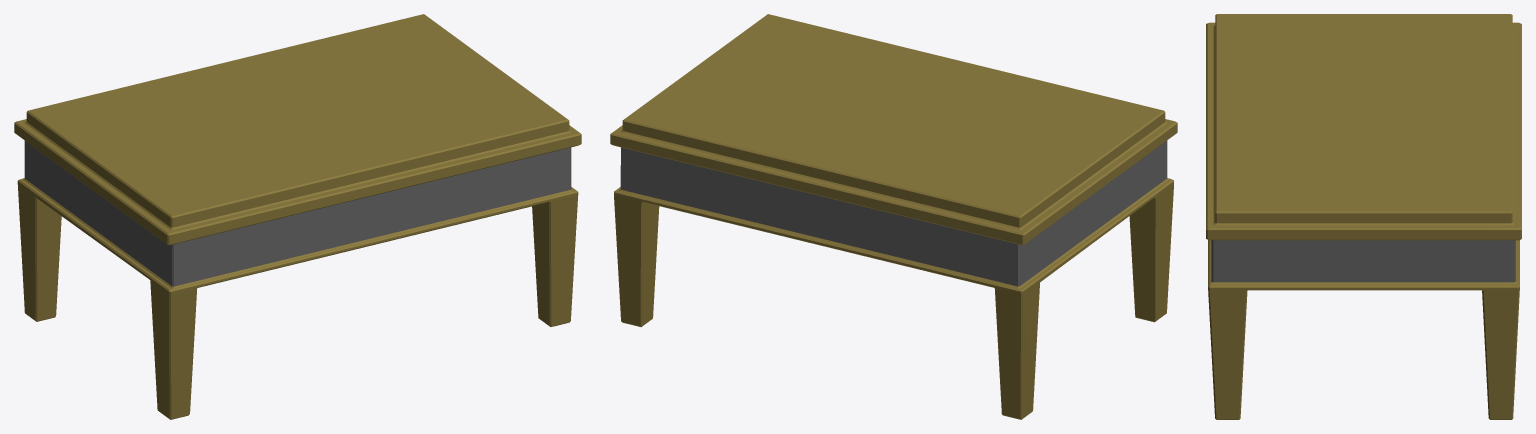
The model's file is SM_Tabel_2.fbx.
3 renders of one model, left to right at view 1: azimuth 30°, elevation 25°; view 2: azimuth 150°, elevation 25°; view 3: azimuth 270°, elevation 25°, orthographic. The views are drawn at different scales.
Visible parts, largest first — view 1: Table_2; view 2: Table_2; view 3: Table_2.
Part boxes in pixels (x1,y1,x2,y2): Table_2: (14,14,581,419); Table_2: (610,14,1177,419); Table_2: (1206,14,1521,419).
Bounding box in the file's own units: 1.85 × 0.8664 × 1.19.
